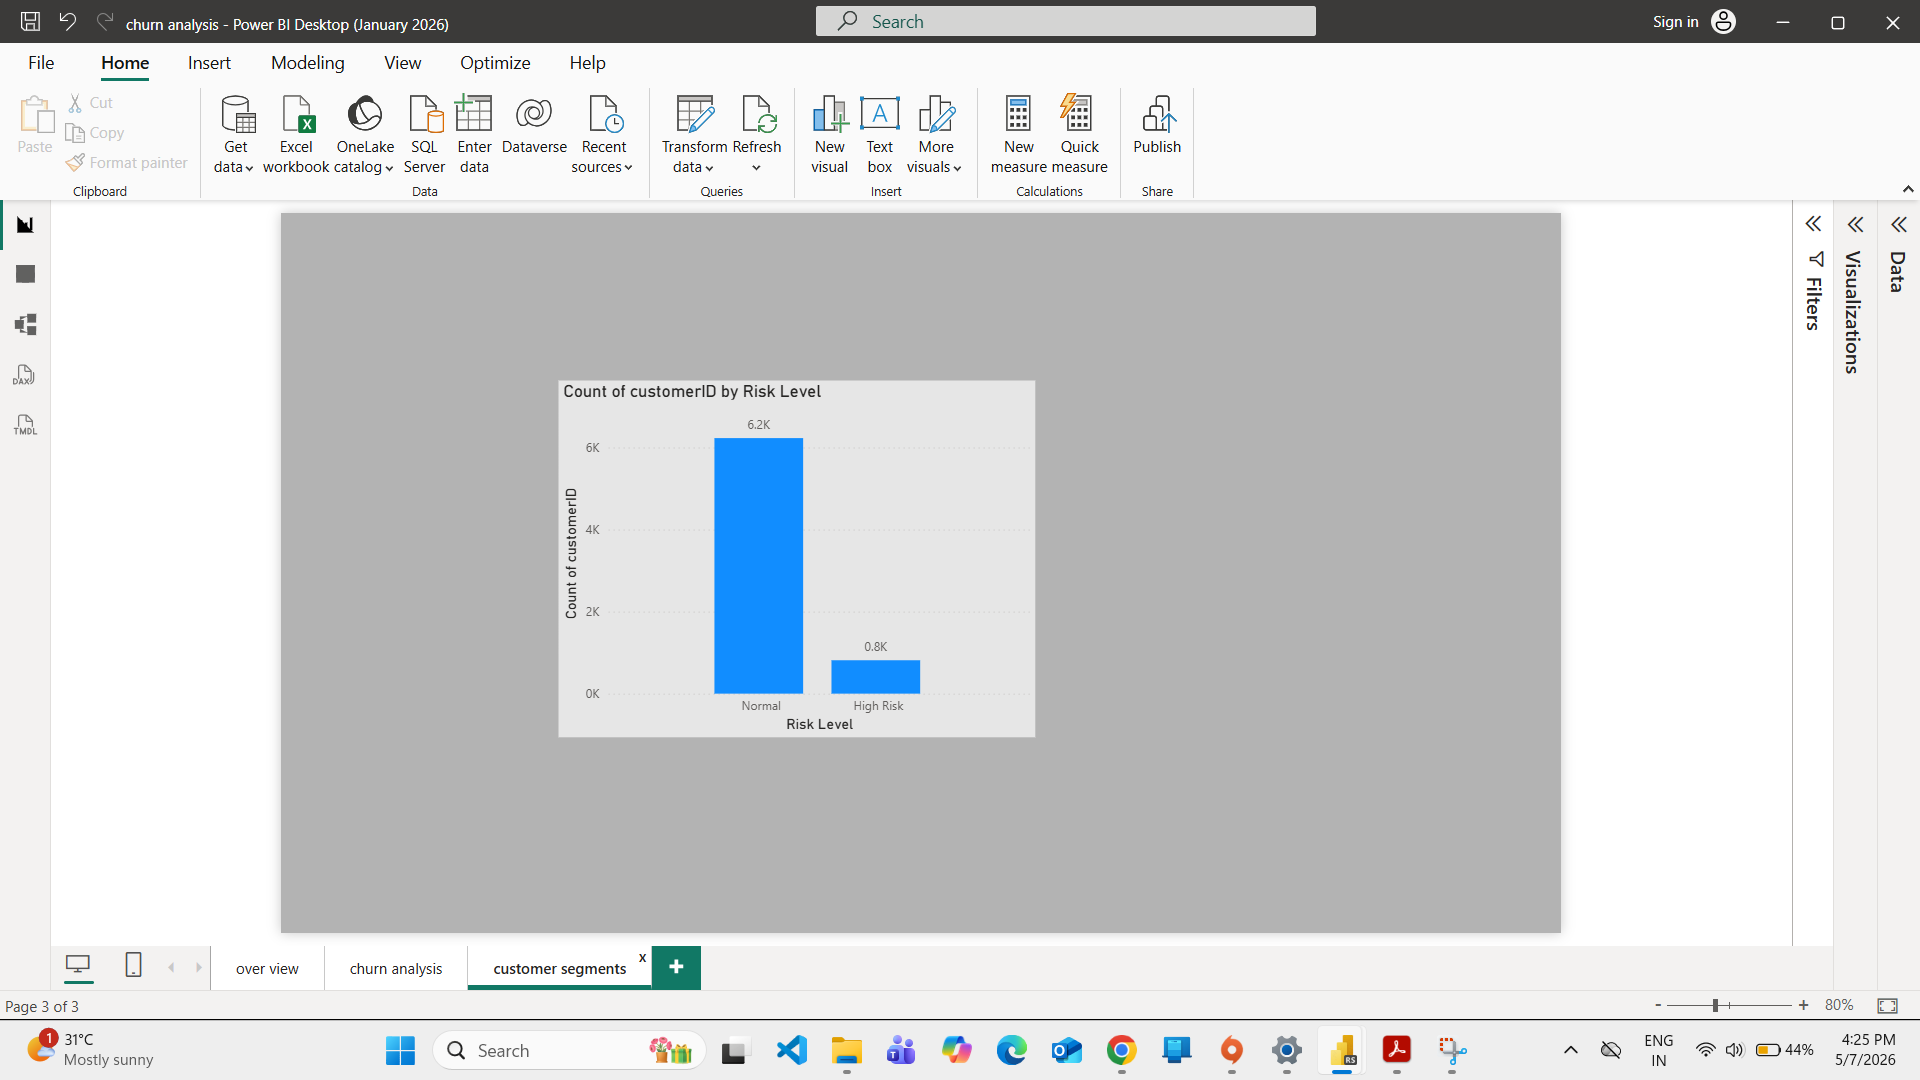

The dashboard page shown, as its layout file describes it:
{"tool":"powerbi","page":{"name":"customer segments","canvas":[1280,720],"ordinal":2},"visuals":[{"type":"columnChart","fields":{"Category":["clean_churn_data.Risk Level"],"Y":["CountNonNull(clean_churn_data.customerID)"]},"box":[277.1,167.1,477.1,357.1],"z":0}]}

Visuals, with their boxes on the page's 1280x720 design canvas (x1, y1, x2, y2). These are canvas units, not pixel positions in the 1920x1080 screenshot, which may show the page scaled, cropped or inside an application window:
columnChart - clean_churn_data.Risk Level x CountNonNull(clean_churn_data.customerID): 277, 167, 754, 524
